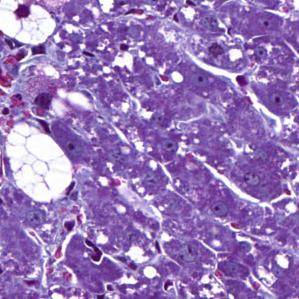ballooning: (4, 119, 77, 204), (3, 1, 58, 48)
